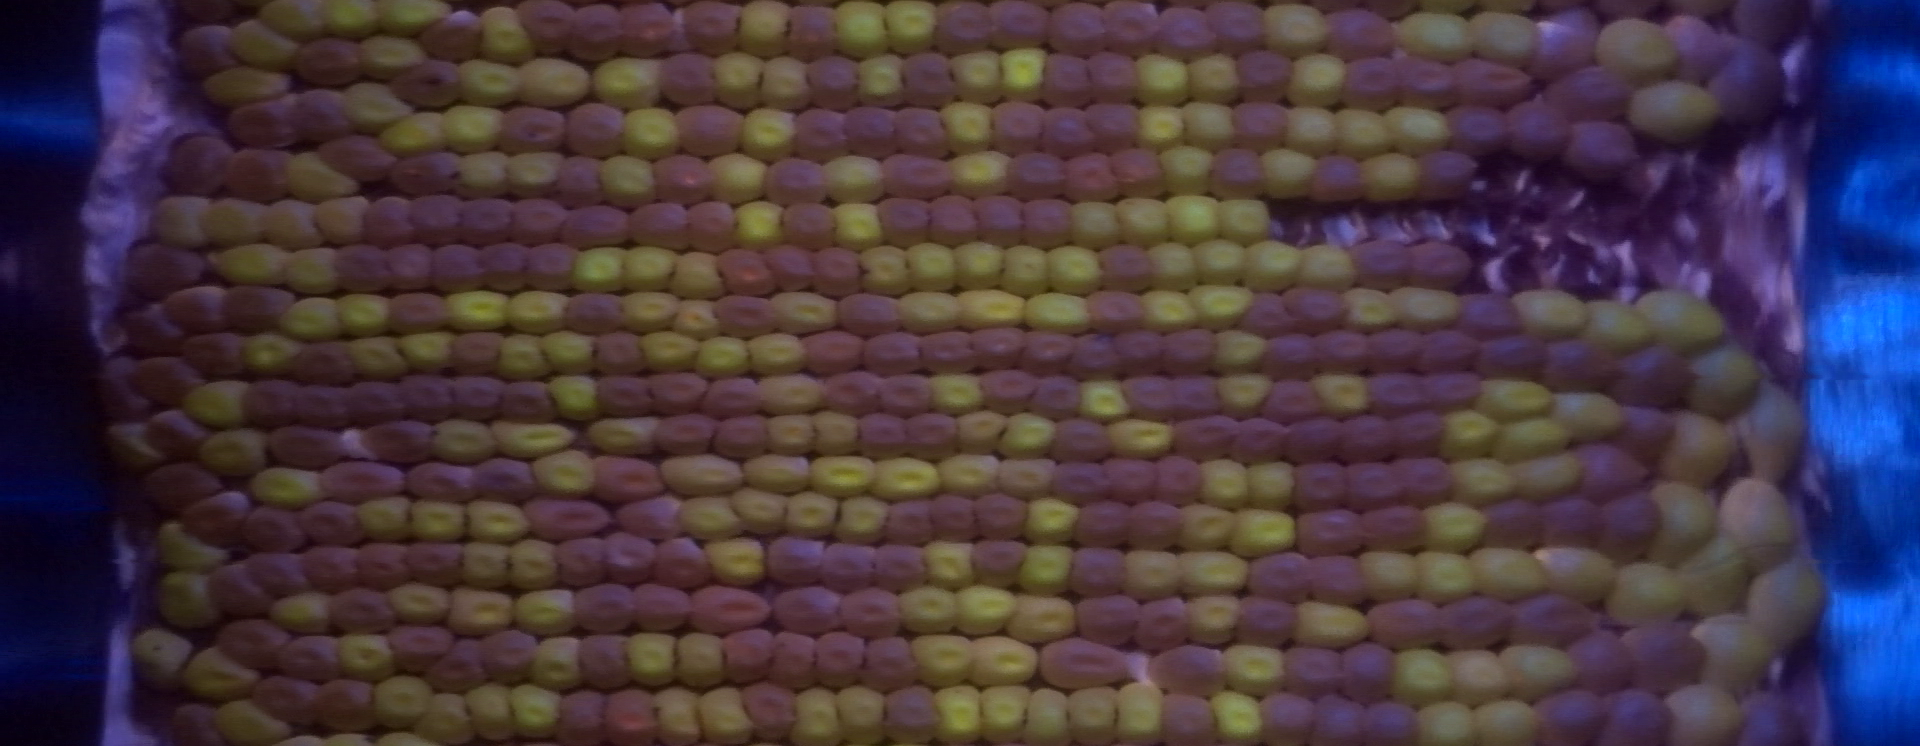fluorescent: (1746, 566, 1826, 670), (1725, 481, 1795, 578), (1736, 388, 1809, 480), (1596, 20, 1682, 89), (1700, 612, 1773, 687), (1647, 483, 1714, 560), (1693, 343, 1760, 420), (1629, 85, 1718, 140), (1610, 562, 1689, 624), (1667, 409, 1728, 486), (1663, 685, 1740, 745), (1681, 541, 1742, 615), (1644, 296, 1722, 352), (1392, 12, 1472, 65), (1293, 599, 1375, 648), (969, 630, 1040, 686), (1473, 546, 1545, 601), (1507, 647, 1575, 706), (1472, 12, 1544, 66), (661, 450, 742, 497), (288, 147, 358, 202), (590, 56, 661, 110), (1515, 453, 1584, 507), (1547, 549, 1608, 610), (517, 58, 590, 108), (1553, 391, 1621, 443), (200, 66, 294, 104), (898, 584, 964, 638), (1584, 294, 1651, 348), (1416, 552, 1476, 611), (1451, 649, 1512, 707), (1013, 590, 1078, 644), (1395, 646, 1452, 706), (808, 450, 877, 500), (478, 2, 531, 66), (781, 490, 845, 544), (127, 624, 185, 682), (587, 408, 654, 458), (345, 82, 407, 137), (1291, 49, 1346, 110), (1127, 544, 1188, 599), (216, 699, 288, 746), (185, 650, 253, 699), (1262, 6, 1327, 58), (705, 151, 768, 203), (824, 153, 887, 206), (947, 151, 1015, 198), (228, 20, 294, 69), (909, 635, 975, 684), (1128, 51, 1189, 104), (200, 198, 263, 249), (1480, 376, 1545, 425), (1359, 550, 1416, 606), (531, 451, 601, 496), (742, 447, 808, 495), (1522, 289, 1583, 341), (209, 244, 289, 283), (835, 1, 890, 58), (1191, 597, 1249, 650), (263, 198, 322, 251), (682, 492, 741, 545), (156, 523, 222, 570), (467, 501, 529, 550), (1189, 550, 1251, 599), (1385, 105, 1447, 154), (1498, 418, 1569, 461), (949, 50, 1004, 105), (733, 198, 790, 252), (710, 50, 760, 110), (936, 448, 996, 499), (459, 59, 520, 108), (280, 247, 342, 296), (1236, 510, 1297, 559), (268, 589, 331, 637), (1423, 502, 1485, 550), (384, 111, 452, 156), (1185, 98, 1237, 156), (496, 332, 553, 383), (705, 533, 763, 584), (1244, 240, 1303, 290), (362, 33, 425, 80), (1060, 687, 1114, 741), (152, 195, 207, 247), (373, 677, 429, 730), (624, 628, 677, 684), (600, 152, 651, 208), (982, 684, 1033, 740), (1227, 646, 1284, 696), (1471, 698, 1531, 746), (201, 430, 266, 474), (876, 454, 940, 499), (451, 592, 516, 636), (1025, 292, 1093, 333), (251, 465, 320, 507), (1418, 699, 1479, 746), (624, 244, 677, 298), (1158, 143, 1211, 197), (742, 107, 793, 162), (744, 331, 807, 376), (1452, 461, 1515, 506), (442, 104, 500, 153), (433, 423, 497, 467), (189, 383, 249, 430), (955, 586, 1015, 632), (497, 420, 573, 457), (444, 292, 509, 334), (506, 292, 571, 334), (638, 330, 699, 375), (700, 688, 752, 742), (1444, 408, 1494, 463), (677, 635, 725, 692), (351, 334, 410, 381), (1139, 289, 1198, 336), (753, 371, 820, 412), (1288, 107, 1338, 160), (1000, 246, 1054, 296), (670, 247, 719, 303), (944, 100, 993, 156), (1164, 191, 1220, 240), (932, 535, 980, 592), (1213, 690, 1261, 746), (1265, 147, 1316, 198), (516, 586, 576, 630), (1216, 194, 1269, 244), (999, 45, 1047, 100), (959, 288, 1024, 328), (937, 687, 983, 744), (796, 688, 841, 746), (1120, 680, 1164, 739), (624, 104, 676, 154), (760, 58, 811, 109), (738, 1, 790, 51), (885, 2, 936, 54), (861, 246, 912, 296), (1188, 56, 1240, 105), (507, 537, 560, 586), (534, 636, 583, 688), (1067, 198, 1120, 246), (1109, 416, 1173, 457), (774, 292, 835, 333), (380, 2, 453, 37), (838, 499, 890, 546), (1183, 508, 1236, 556), (911, 243, 958, 296), (902, 290, 962, 332), (503, 152, 560, 196), (621, 287, 678, 330), (1194, 287, 1251, 330), (460, 151, 511, 200), (313, 198, 364, 247), (833, 200, 880, 251), (1081, 376, 1133, 424), (511, 680, 557, 733), (1199, 457, 1245, 510), (574, 247, 628, 293), (658, 690, 700, 746), (545, 330, 594, 379), (549, 372, 598, 421), (996, 458, 1053, 500), (1215, 374, 1272, 415), (1151, 240, 1198, 292), (1251, 463, 1297, 516), (693, 336, 752, 376), (421, 695, 475, 739), (1395, 290, 1457, 328), (1008, 409, 1051, 464), (1365, 153, 1413, 202), (860, 55, 906, 105), (1138, 104, 1188, 151), (955, 240, 1002, 290), (1030, 497, 1076, 548), (732, 486, 784, 532), (160, 575, 208, 622), (282, 296, 338, 337), (410, 501, 467, 541), (1049, 247, 1100, 293), (338, 290, 389, 334), (1300, 245, 1356, 285), (841, 691, 887, 740), (320, 5, 382, 40), (258, 1, 320, 37), (1119, 198, 1166, 245), (933, 371, 981, 416), (342, 637, 394, 677), (1337, 110, 1384, 156), (1194, 240, 1243, 283), (1347, 292, 1396, 334), (1315, 371, 1367, 412), (362, 499, 410, 541), (1027, 690, 1068, 740), (1217, 330, 1267, 370), (471, 682, 516, 728), (771, 412, 819, 453), (387, 586, 442, 621), (464, 540, 509, 583), (242, 334, 299, 369), (960, 412, 1004, 454), (405, 333, 451, 375), (817, 414, 863, 452), (676, 299, 718, 337)
nonfluorescent: (1716, 38, 1785, 145), (1626, 628, 1711, 693), (1542, 341, 1629, 394), (1504, 96, 1570, 164), (1453, 58, 1533, 113), (1441, 594, 1515, 653), (1040, 635, 1125, 685), (216, 149, 293, 205), (1565, 122, 1642, 178), (225, 93, 299, 151), (1534, 686, 1611, 740), (1575, 443, 1649, 499), (318, 130, 396, 183), (1074, 590, 1141, 650), (1667, 16, 1722, 88), (1621, 352, 1687, 412), (523, 499, 613, 541), (1605, 688, 1671, 746), (691, 584, 768, 633), (1598, 499, 1659, 560), (174, 131, 227, 202), (1513, 594, 1593, 641), (295, 36, 364, 89), (179, 495, 247, 549), (593, 451, 661, 505), (1005, 151, 1075, 203), (1146, 649, 1229, 693), (838, 586, 909, 637), (1739, 692, 1806, 746), (129, 240, 202, 289), (1365, 599, 1442, 646), (1538, 15, 1593, 80), (563, 103, 624, 160), (1571, 631, 1632, 688), (324, 462, 404, 506), (255, 674, 318, 729), (298, 500, 365, 551), (1416, 147, 1483, 198), (267, 425, 345, 469), (1614, 412, 1674, 469), (389, 153, 465, 198), (814, 626, 864, 693), (1344, 643, 1395, 710), (1120, 372, 1182, 428), (1127, 502, 1189, 556), (358, 418, 430, 464), (496, 107, 564, 156), (220, 617, 287, 668), (285, 89, 342, 148), (130, 355, 190, 410), (885, 688, 945, 744), (1554, 71, 1625, 118), (240, 510, 305, 560), (771, 586, 841, 632), (208, 563, 264, 621), (315, 677, 372, 734), (517, 2, 576, 58), (675, 107, 741, 156), (804, 56, 864, 110), (864, 637, 918, 697), (1340, 54, 1400, 108), (1258, 688, 1318, 742), (301, 544, 362, 597), (1234, 600, 1297, 652), (1283, 415, 1347, 465), (1247, 554, 1311, 603), (898, 51, 955, 107), (1293, 457, 1348, 514), (658, 54, 718, 107), (1451, 108, 1511, 160), (651, 153, 713, 205), (1363, 503, 1427, 552), (616, 492, 684, 538), (1158, 2, 1215, 58), (720, 628, 776, 684), (408, 194, 465, 247), (1344, 459, 1402, 513), (883, 156, 955, 198), (989, 97, 1042, 156), (169, 282, 228, 334), (405, 539, 465, 590), (1479, 499, 1539, 550), (762, 158, 828, 205), (1253, 375, 1322, 419), (1299, 510, 1365, 556), (803, 330, 864, 380), (143, 464, 227, 501), (1284, 646, 1347, 695), (294, 341, 358, 388), (181, 22, 235, 78), (425, 11, 479, 67), (572, 7, 624, 65), (384, 239, 442, 292), (902, 407, 955, 464), (742, 682, 795, 740), (681, 6, 740, 58), (686, 198, 737, 257), (1176, 418, 1244, 462), (563, 288, 628, 334), (792, 110, 852, 160), (1331, 10, 1391, 60), (1289, 285, 1349, 336), (222, 289, 288, 334), (1229, 418, 1296, 463), (838, 287, 900, 334), (1313, 149, 1360, 212), (560, 208, 636, 247), (849, 103, 902, 158), (785, 6, 839, 61), (397, 369, 452, 423), (768, 535, 823, 589), (1413, 238, 1468, 292), (1209, 146, 1265, 198), (653, 532, 705, 588), (475, 457, 535, 506), (1540, 499, 1600, 548), (405, 465, 482, 503), (984, 6, 1051, 50), (1353, 245, 1416, 292), (609, 690, 662, 744), (1022, 194, 1075, 249), (459, 195, 514, 247), (430, 241, 485, 294), (451, 375, 506, 428), (1070, 545, 1125, 598), (1309, 551, 1362, 606), (621, 2, 672, 59), (721, 249, 778, 300), (1397, 60, 1453, 111), (932, 1, 989, 51), (1476, 334, 1543, 377), (769, 630, 818, 688), (396, 62, 460, 107), (891, 102, 944, 156), (1089, 100, 1142, 153), (1367, 321, 1420, 374), (246, 552, 309, 598), (1227, 102, 1284, 151), (1104, 2, 1163, 50), (1369, 372, 1429, 419), (1420, 322, 1476, 372), (879, 198, 936, 247), (560, 690, 609, 746), (184, 337, 246, 381), (1357, 699, 1416, 746), (1042, 103, 1093, 156), (509, 196, 562, 247), (1403, 454, 1456, 506), (1161, 695, 1215, 745), (1044, 51, 1093, 107), (1460, 293, 1521, 337), (1071, 500, 1128, 548), (577, 583, 634, 630), (582, 632, 626, 692), (148, 405, 198, 458), (560, 156, 609, 209), (555, 537, 609, 586), (1236, 54, 1292, 100), (1103, 461, 1162, 505), (825, 365, 877, 415), (822, 541, 873, 592), (971, 538, 1022, 588), (1070, 153, 1119, 206), (768, 247, 820, 296), (873, 541, 926, 590), (1138, 595, 1190, 644), (435, 639, 482, 693), (595, 374, 655, 416), (877, 375, 932, 421), (1393, 414, 1450, 459), (589, 330, 648, 372), (1164, 330, 1216, 379), (358, 541, 409, 590), (976, 197, 1024, 250), (1116, 151, 1168, 198), (1344, 413, 1397, 461), (718, 298, 778, 339), (864, 331, 924, 372), (1051, 2, 1107, 47), (295, 383, 351, 428), (636, 586, 692, 630), (1086, 50, 1135, 100), (1098, 243, 1149, 292), (1056, 461, 1106, 510), (934, 491, 984, 540), (928, 195, 975, 247), (1022, 330, 1075, 376), (283, 636, 342, 677), (636, 205, 689, 250), (333, 589, 387, 635), (920, 330, 975, 374), (1087, 290, 1142, 334), (489, 630, 533, 685), (650, 375, 714, 413), (1256, 337, 1318, 376), (1311, 696, 1360, 745), (364, 192, 411, 243), (651, 412, 709, 453), (784, 203, 835, 250), (1211, 7, 1265, 51), (495, 383, 555, 423), (1243, 290, 1292, 338), (607, 532, 654, 582), (885, 499, 936, 545), (1318, 330, 1368, 376), (387, 292, 440, 336), (982, 367, 1035, 412), (1422, 372, 1474, 416), (711, 416, 765, 459), (339, 240, 384, 290), (396, 624, 446, 669), (452, 330, 503, 374), (1116, 330, 1167, 374), (1057, 416, 1108, 461), (814, 250, 861, 298), (1032, 374, 1079, 421), (975, 489, 1019, 539), (524, 247, 576, 290), (482, 244, 528, 292), (855, 410, 902, 456), (246, 380, 295, 424), (351, 383, 400, 428), (971, 328, 1022, 370), (700, 379, 760, 413), (130, 305, 171, 354), (1176, 376, 1220, 415), (1075, 336, 1114, 379)
